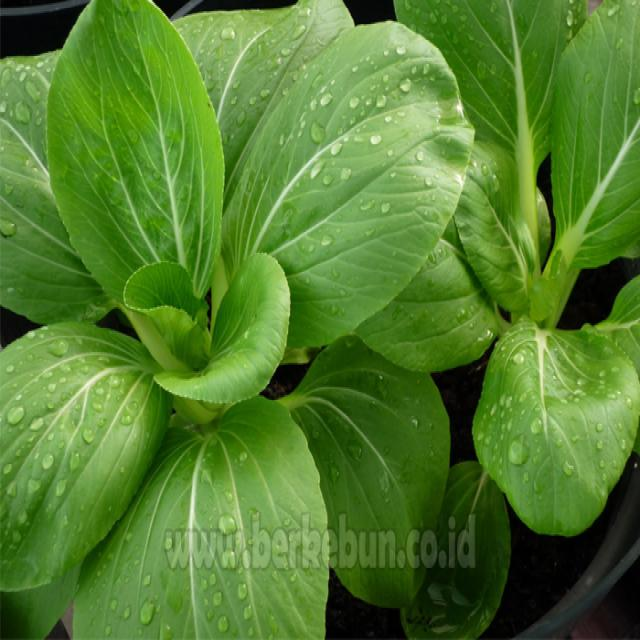pakcoy_sehat: (1, 0, 453, 640)
